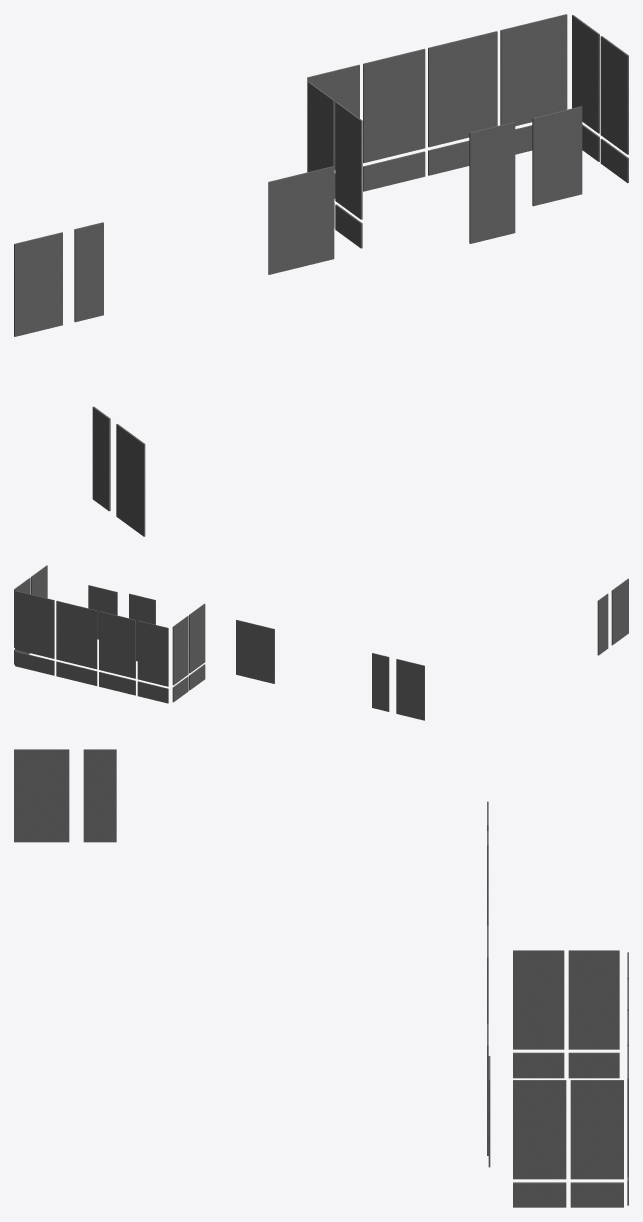
Rendered from ADSK_86.obj.
3 renders of one model, top to bottom at view 1: azimuth 30°, elevation 25°; view 2: azimuth 150°, elevation 25°; view 3: azimuth 270°, elevation 25°, orthographic. The views are drawn at different scales.
Size of the model in its own units: 10.15 by 1.81 by 7.37.
1 material, 1 textured.
